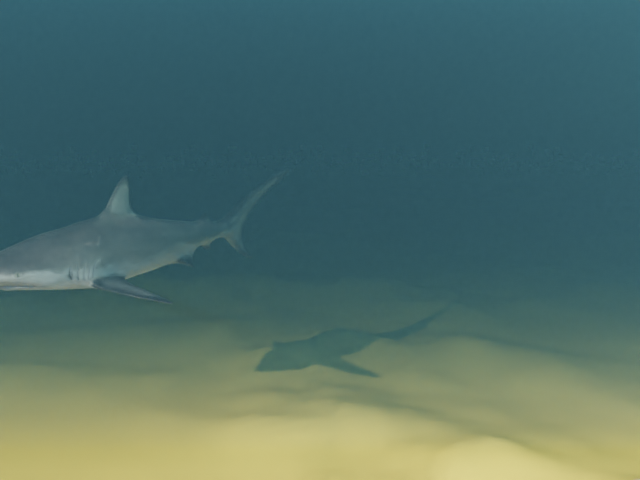Carribean Shark.001: (0, 169, 290, 303)
